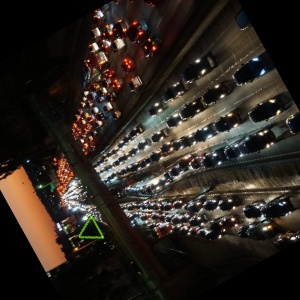triangle: (76, 214, 108, 243)
